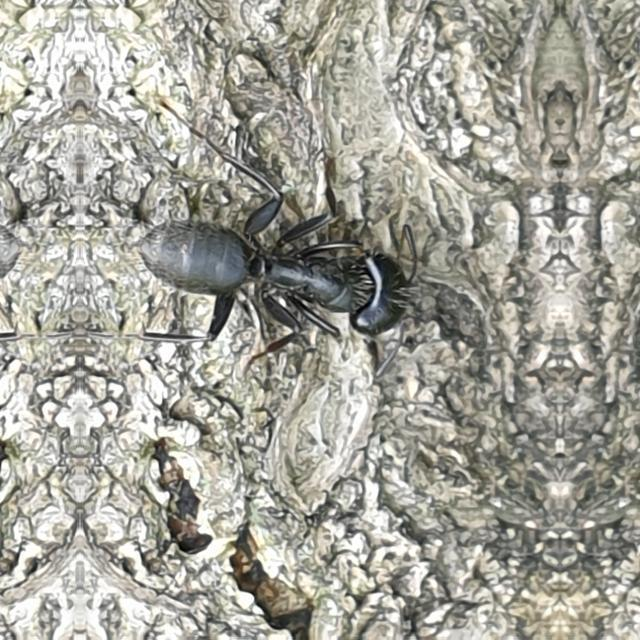Camponotus: (127, 180, 440, 366)
